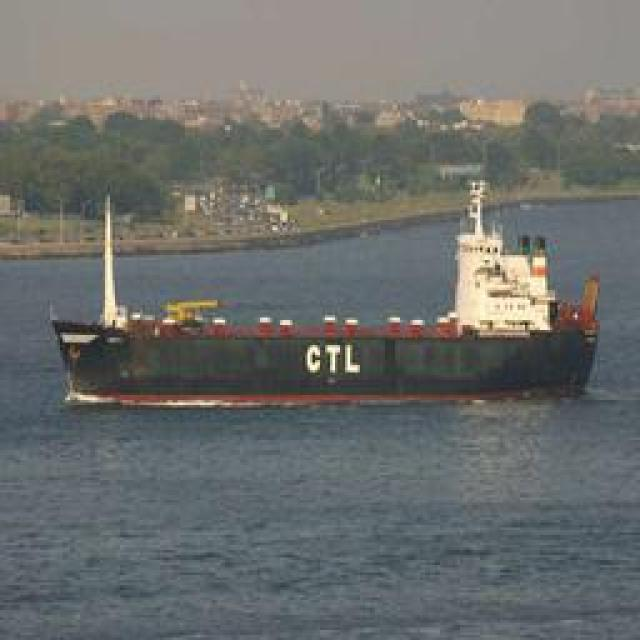CIV_Ship: (48, 172, 610, 412)
